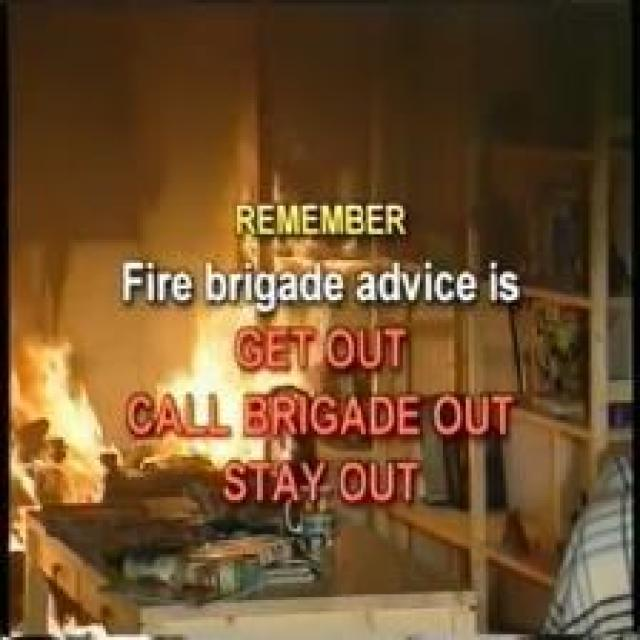fire: (9, 232, 313, 508)
